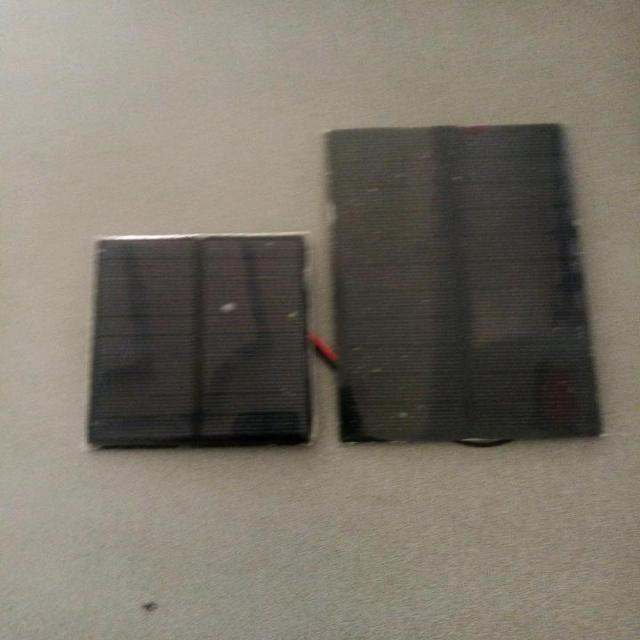Normal Solar Panel: (329, 127, 601, 441), (88, 236, 309, 448)
